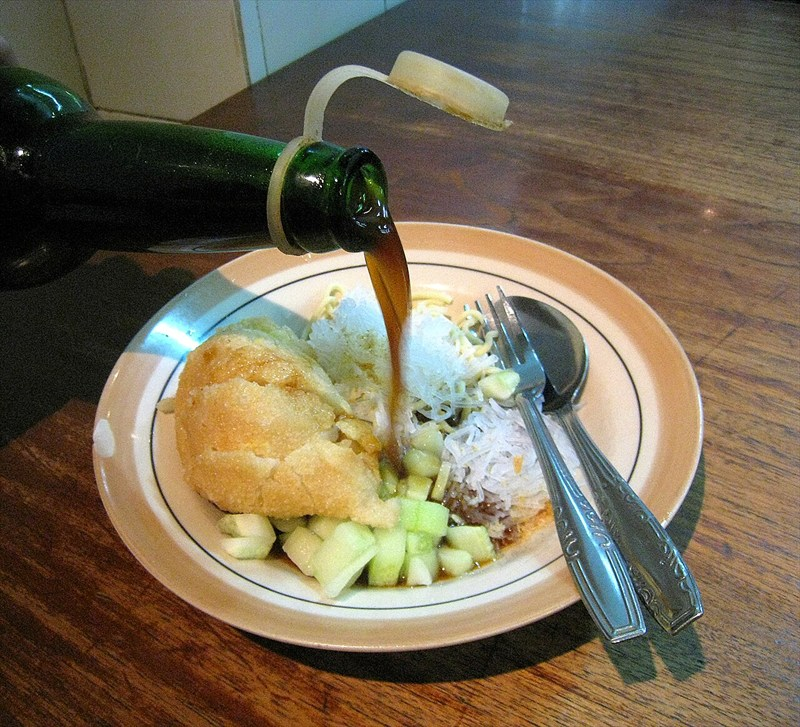Pempek: (127, 217, 663, 631)
